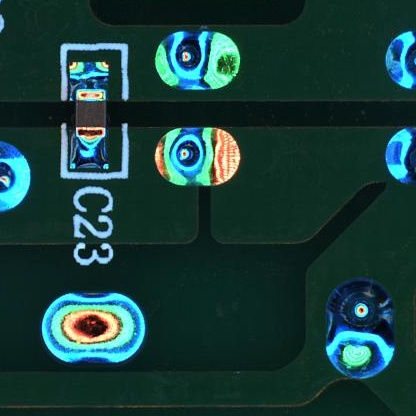spot: (42, 290, 148, 361), (324, 276, 396, 380), (155, 28, 240, 92), (152, 125, 240, 186), (1, 136, 31, 214), (385, 29, 416, 93), (386, 123, 416, 186)
